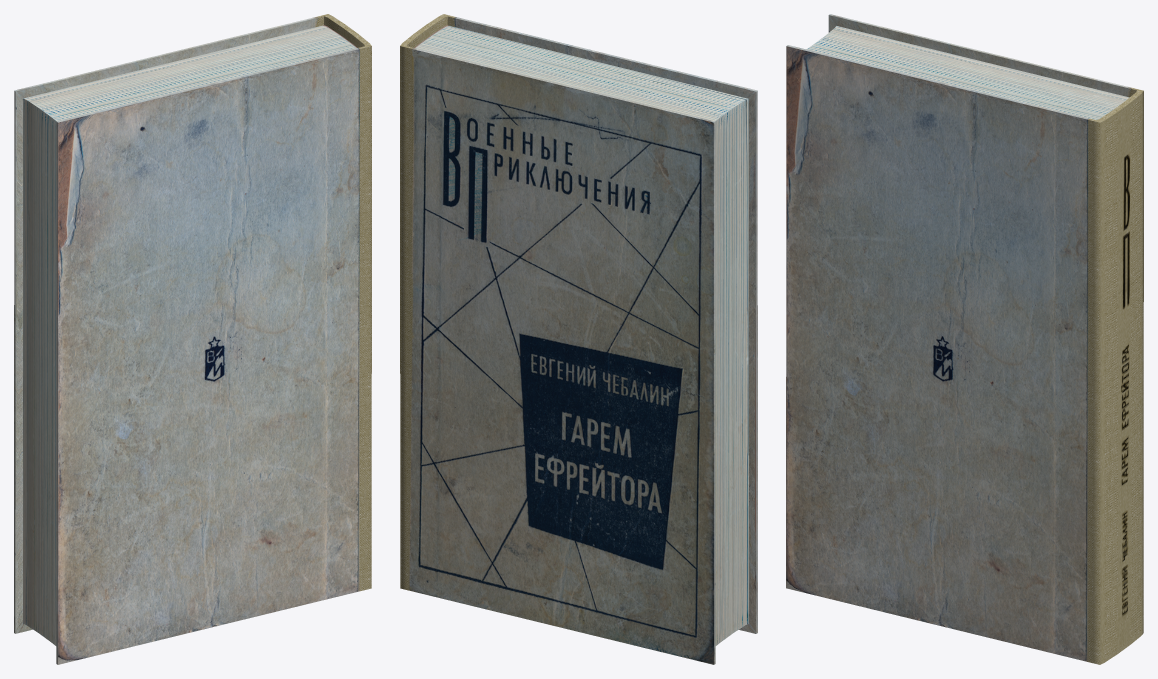
File: russian_book.glb
The picture shows the model from 3 angles, left to right: view 1: azimuth 30°, elevation 25°; view 2: azimuth 150°, elevation 25°; view 3: azimuth 330°, elevation 25°; orthographic projection.
Parts seen in each view (by area): view 1: Chebalin92; view 2: Chebalin92; view 3: Chebalin92.
Boxes of the visible parts, bbox=[...] form: Chebalin92: bbox=[14, 14, 371, 664]; Chebalin92: bbox=[400, 14, 757, 664]; Chebalin92: bbox=[786, 14, 1143, 664].
Bounding box in the file's own units: 0.1251 × 0.2051 × 0.03.
1 material, 1 textured.
